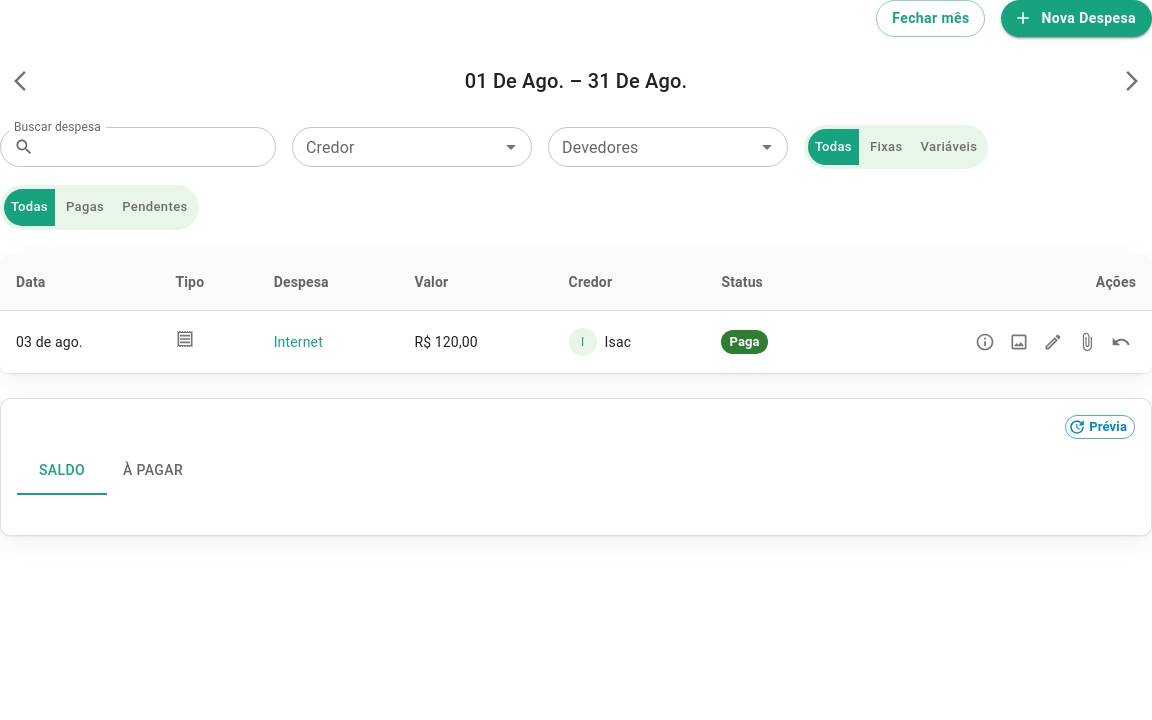
Test: ExpenseManager - listagem em cards › descrição do pagamento no modal de detalhes › shows both the proof link and the note when the payment has a photo and a text
Expected: the link "Internet" is shown, [274,334,323,350]
Click the button named "Ver detalhes" at (985, 342), box [970,327,1000,357]
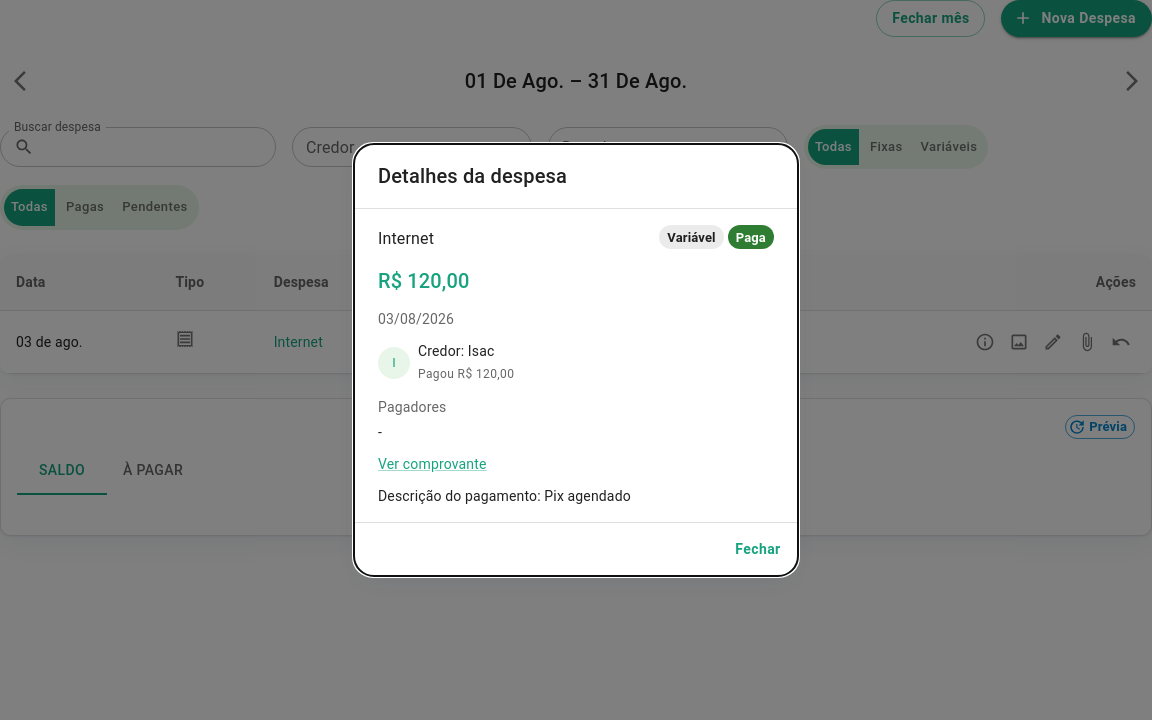
Result: the link "Ver comprovante" is shown at [378,456,486,472]
Result: the text "Descrição do pagamento: Pix agendado" is shown at [378,488,631,504]
